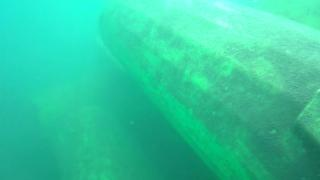pipe: (97, 1, 320, 180)
